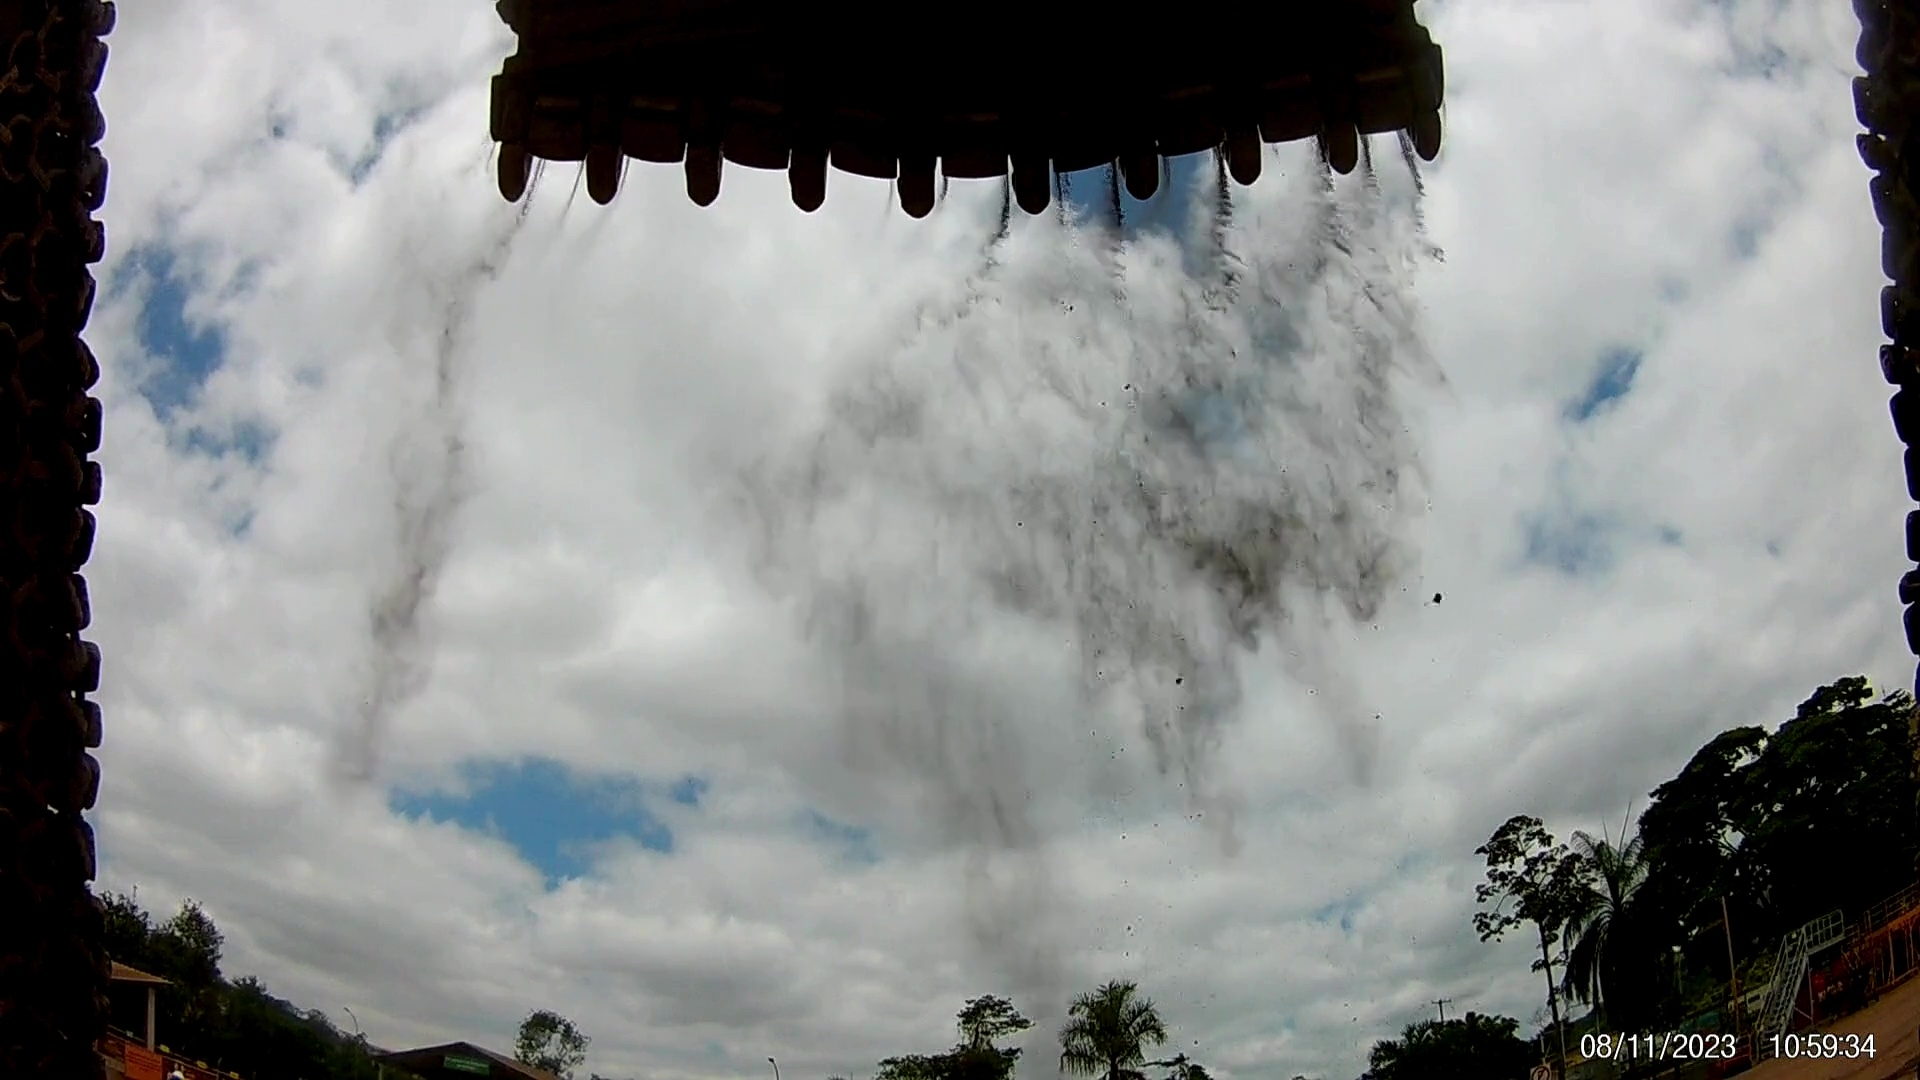FPS: (1208, 124, 1288, 204), (1104, 117, 1158, 212), (889, 156, 949, 236), (1389, 100, 1455, 171), (775, 131, 829, 215), (997, 156, 1051, 231), (587, 150, 637, 215), (680, 156, 732, 215), (1325, 117, 1361, 189), (495, 150, 535, 210)
